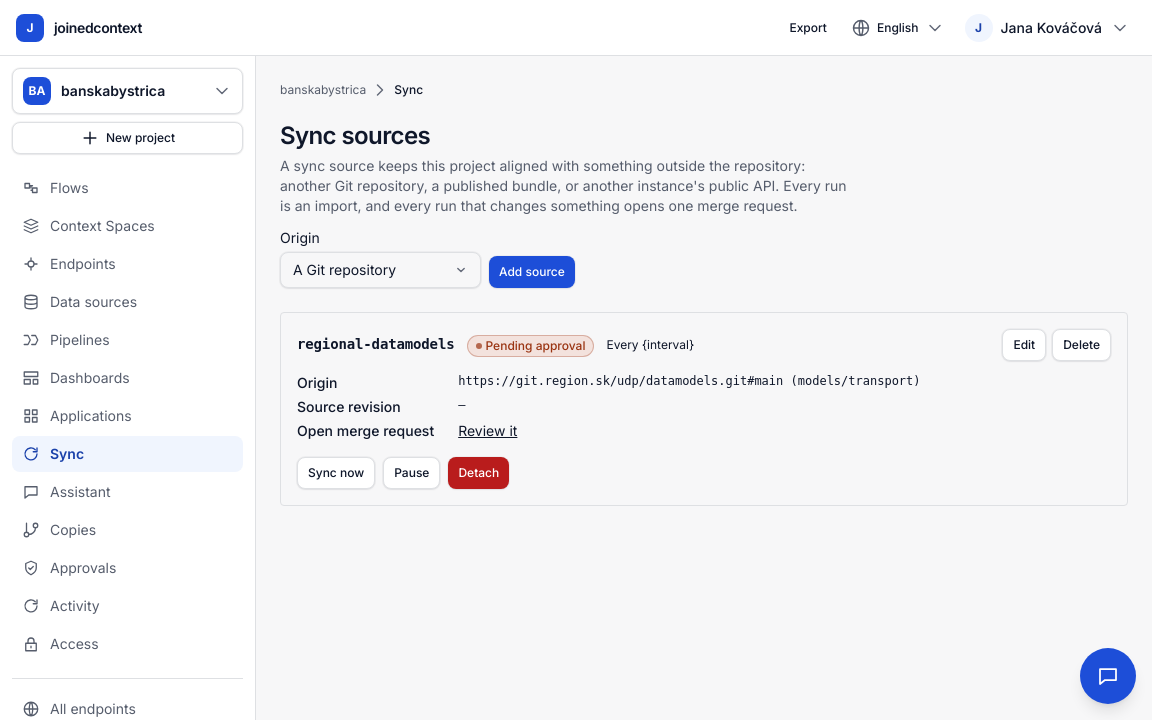
Test: sync sources view › asks before detaching, and answers with the merge request that removes it
This screenshot has width=1152, height=720.
Expected: the heading "regional-datamodels" is shown, 297,334 -> 454,354
Click the button "Detach": (479, 473) 448,457 -> 509,489
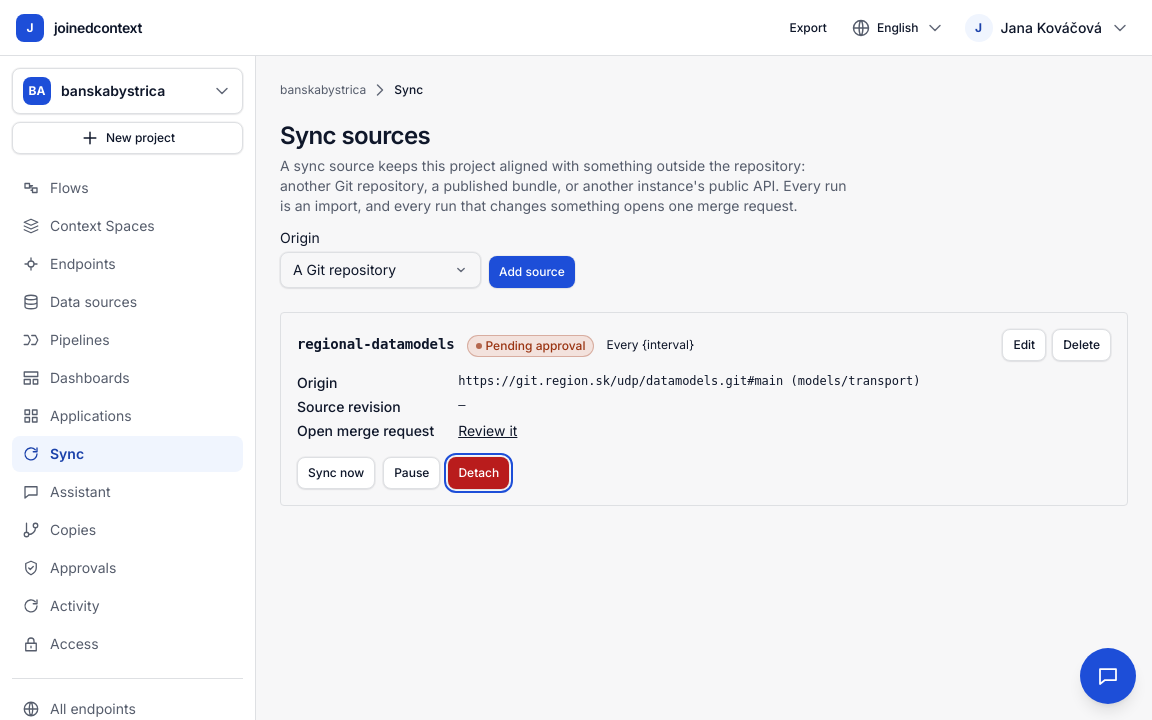
Click the button "Detach": (479, 473) 448,457 -> 509,489
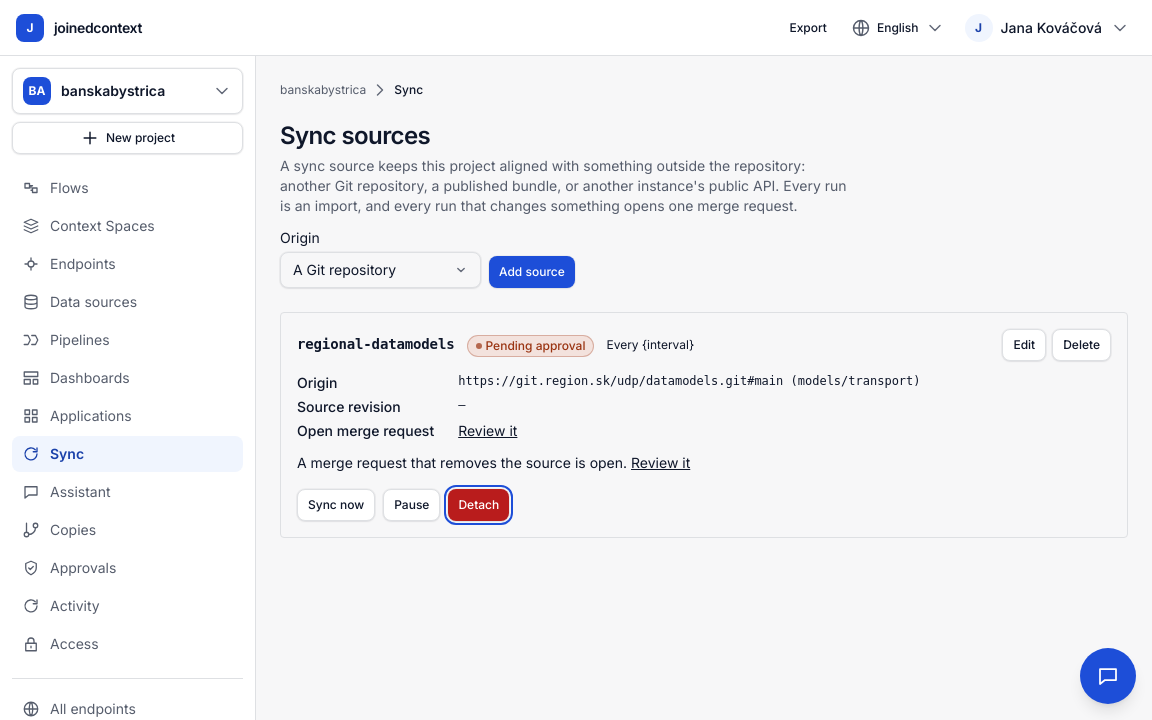
Result: the message shows "A merge request that removes the source is open." at 297,454 -> 627,471
